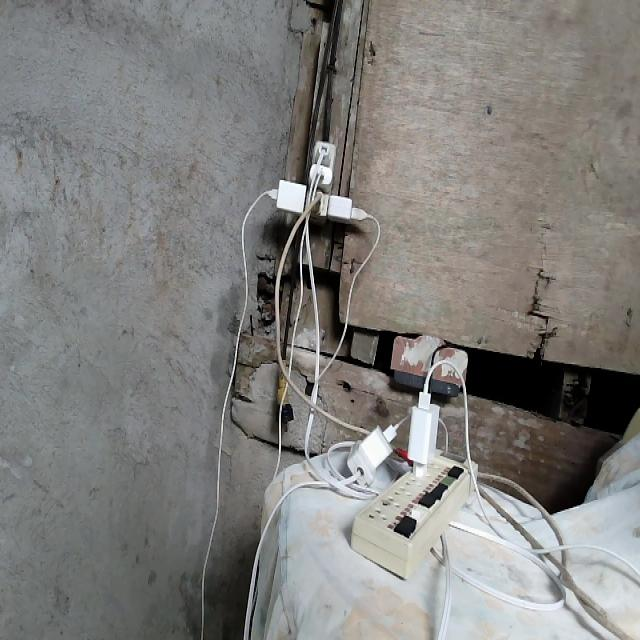-: (264, 140, 364, 227)
